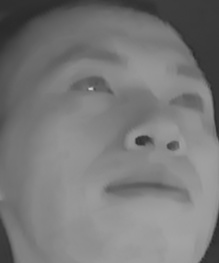eye: (64, 67, 118, 103), (165, 84, 208, 115)
mouth: (99, 166, 193, 214)
